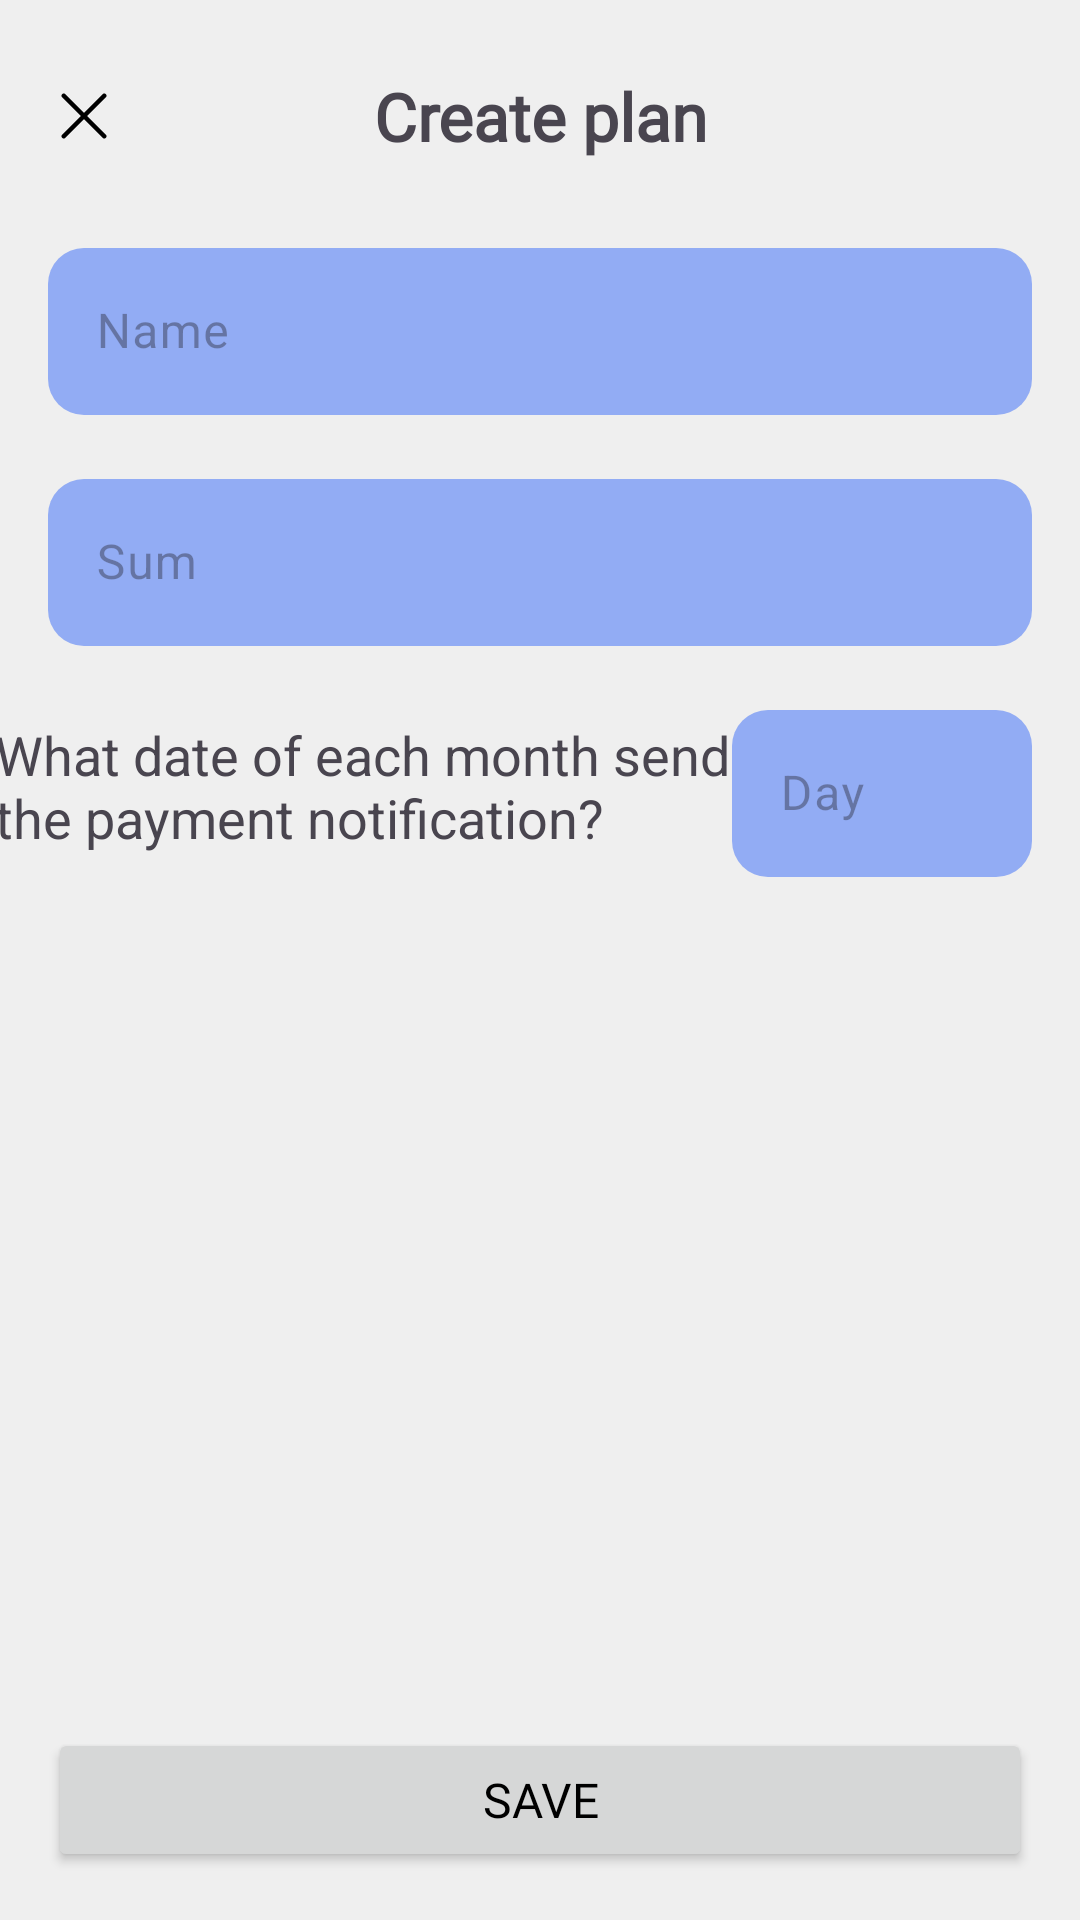

Where to tap for icons on this 1080x1920 app screen, as (x,y):
Exit: (84,116)
